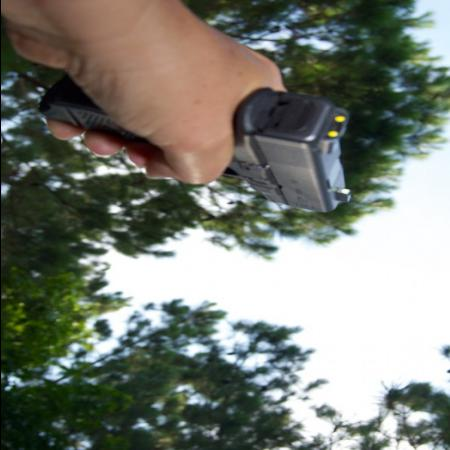Pistol: (37, 72, 367, 216)
